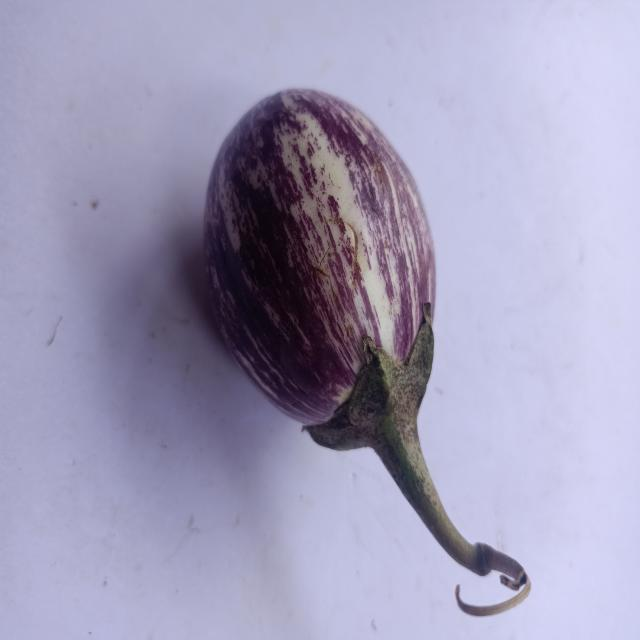Eggplant: (173, 84, 545, 640)
